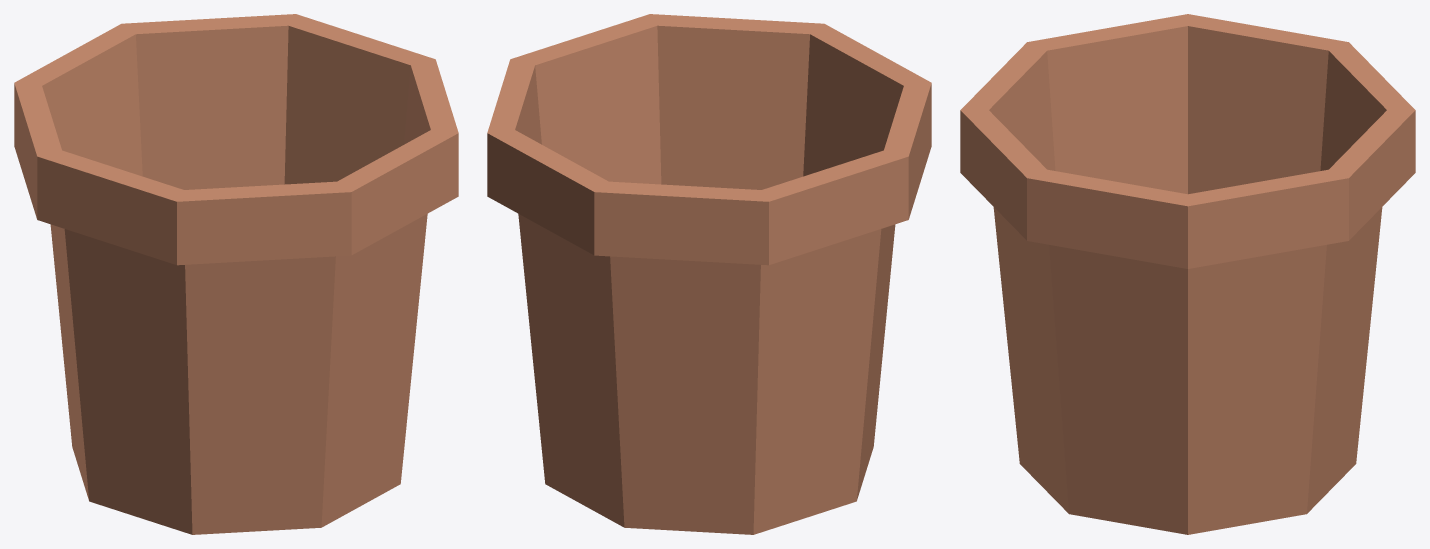
Rendered from FlowerPot2.fbx.
3 views of the same model, side by side, from view 1: azimuth 30°, elevation 25°; view 2: azimuth 150°, elevation 25°; view 3: azimuth 270°, elevation 25° (orthographic).
Visible parts, largest first — view 1: Cylinder; view 2: Cylinder; view 3: Cylinder.
Boxes of the visible parts, x1,y1,x2,y2 form: Cylinder: [14, 14, 458, 534]; Cylinder: [487, 14, 931, 534]; Cylinder: [960, 14, 1415, 534].
Bounding box in the file's own units: 0.46 × 0.3945 × 0.46.
